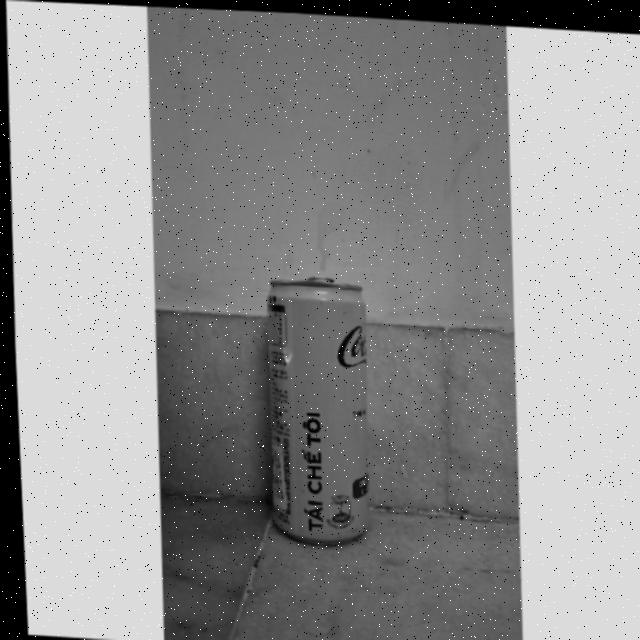Coca Cola Plus: (252, 260, 385, 541)
